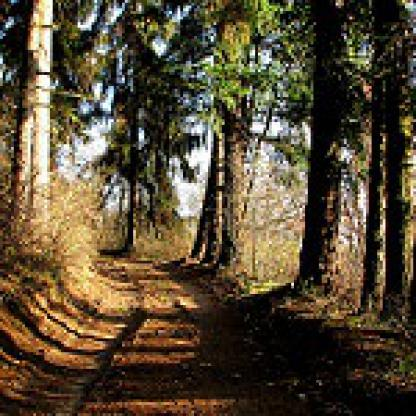road: (16, 236, 300, 413)
tree: (0, 0, 56, 231)
trunk: (291, 0, 372, 305), (374, 0, 414, 339), (216, 0, 250, 269), (119, 102, 144, 252)
